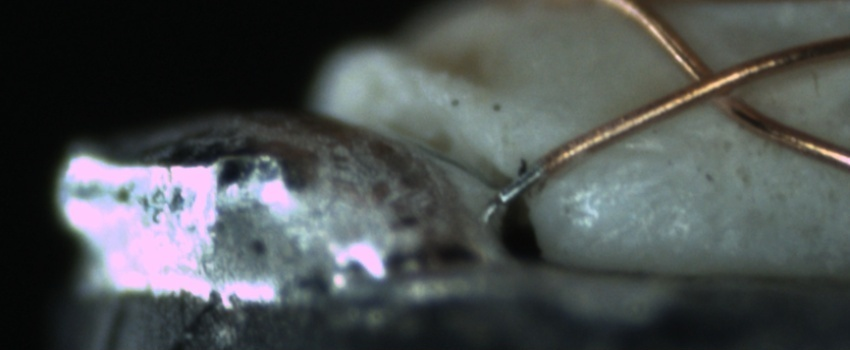CL: (661, 48, 759, 120)
DL: (589, 125, 678, 178)
TS: (497, 161, 543, 202)
